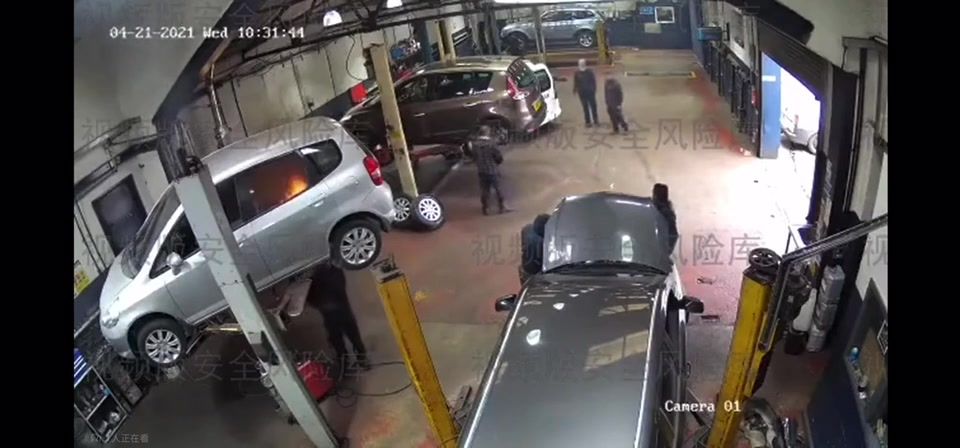fire: (276, 174, 313, 201)
